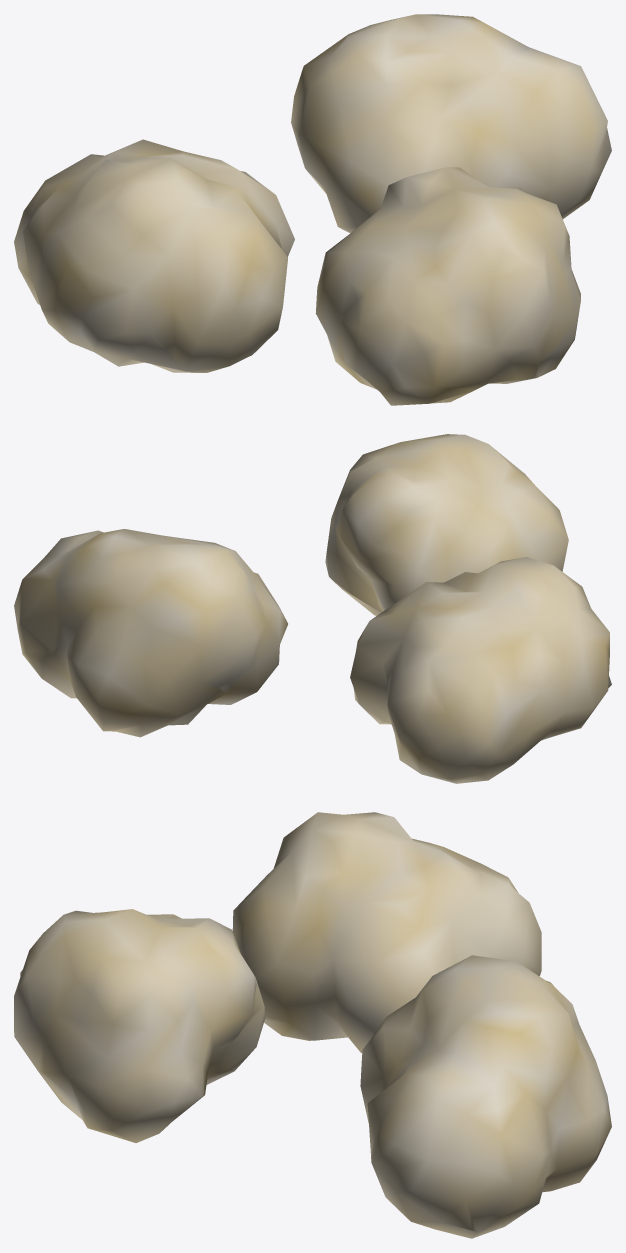
File: popcorn.glb
3 renders of one model, top to bottom at view 1: azimuth 30°, elevation 25°; view 2: azimuth 150°, elevation 25°; view 3: azimuth 270°, elevation 25°, orthographic. The views are drawn at different scales.
Visible parts, largest first — view 1: p0, p2, p1; view 2: p0, p1, p2; view 3: p1, p0, p2.
Boxes of the visible parts, box(x1,y1,x2,y2) form: p0: box(14, 139, 294, 372); p2: box(315, 167, 580, 405); p1: box(291, 14, 611, 233); p0: box(350, 557, 611, 783); p1: box(14, 529, 287, 737); p2: box(325, 434, 568, 615); p1: box(360, 955, 611, 1238); p0: box(232, 812, 541, 1053); p2: box(14, 909, 265, 1142).
Size of the model in its own units: 0.0363 by 0.0124 by 0.0313.
